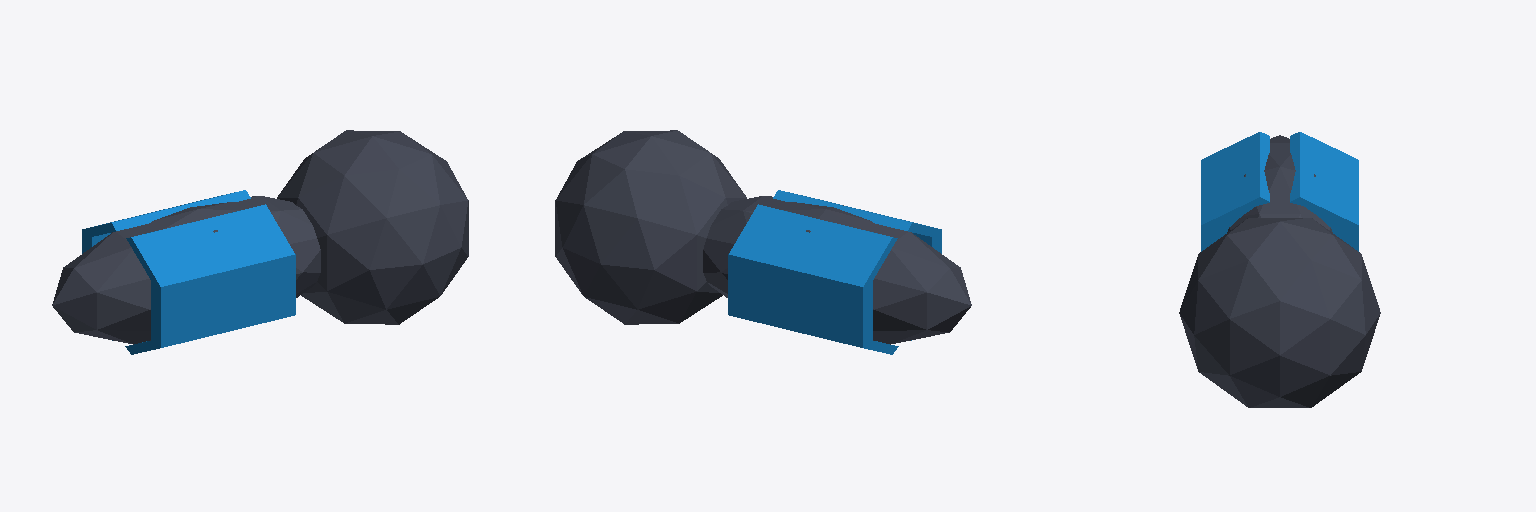
Rendered from shoulder.obj.
3 renders of one model, left to right at view 1: azimuth 30°, elevation 25°; view 2: azimuth 150°, elevation 25°; view 3: azimuth 270°, elevation 25°, orthographic.
Size of the model in its own units: 1.4 by 0.6 by 0.6.